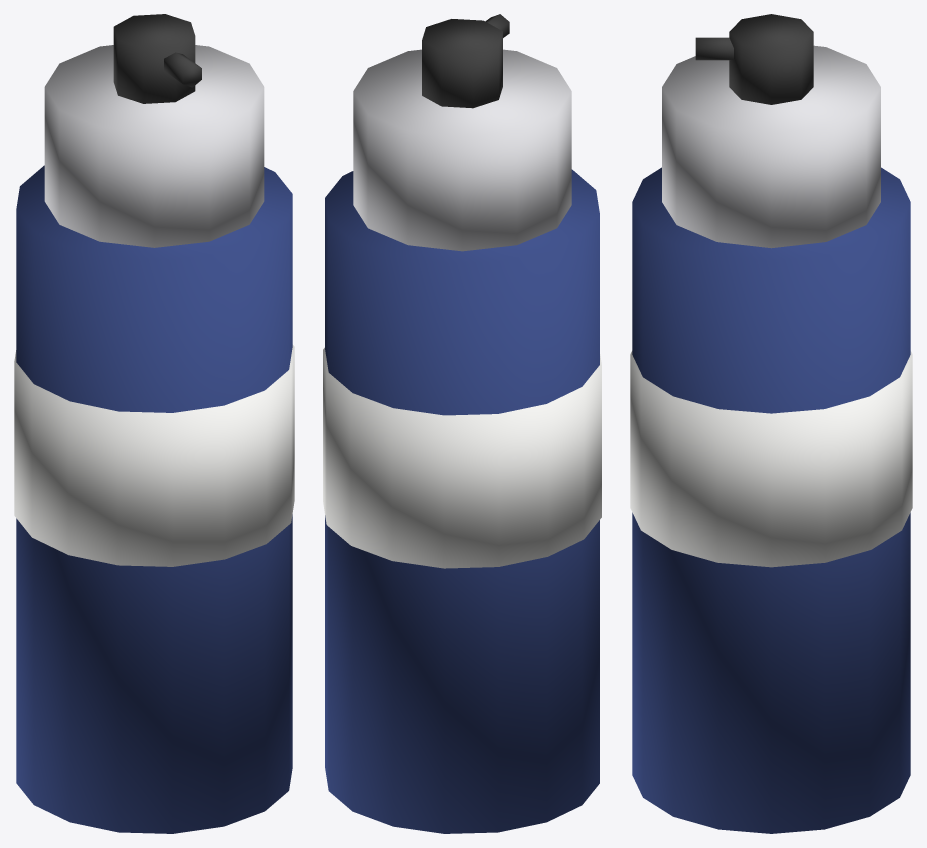
Rendered from spray_can.glb.
The picture shows the model from 3 angles, left to right: view 1: azimuth 30°, elevation 25°; view 2: azimuth 150°, elevation 25°; view 3: azimuth 270°, elevation 25°; orthographic projection.
Visible parts, largest first — view 1: spray_can; view 2: spray_can; view 3: spray_can.
Part boxes in pixels (x1,y1,x2,y2): spray_can: [14, 14, 294, 833]; spray_can: [323, 14, 601, 833]; spray_can: [630, 14, 912, 833].
Size of the model in its own units: 0.067 by 0.1945 by 0.067.
